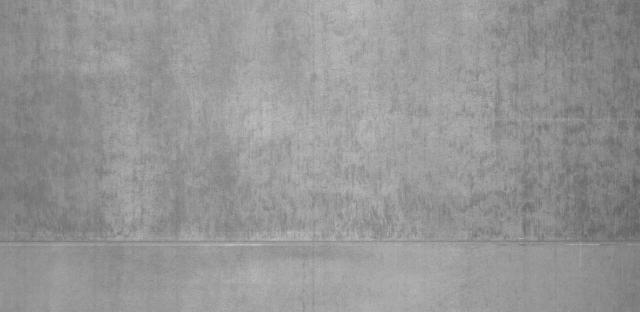silk_spot: (5, 9, 633, 232)
welding_line: (1, 230, 640, 254)
